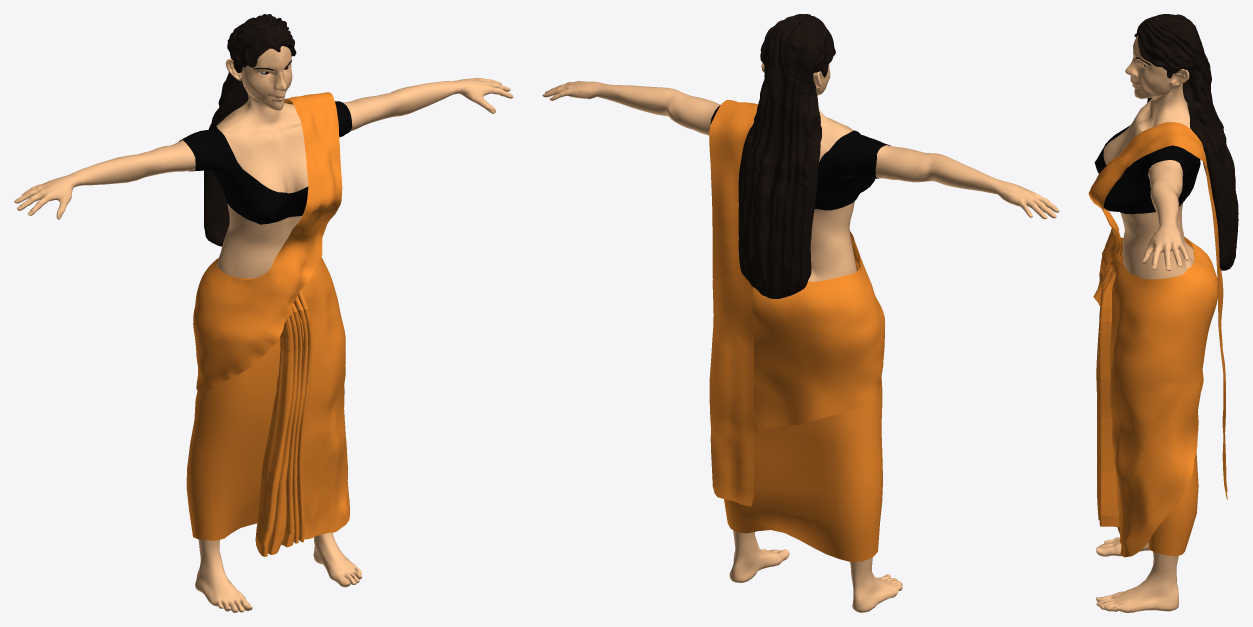
Rendered from indian_woman_in_traditional_saree_outfit.glb.
The picture shows the model from 3 angles, left to right: view 1: azimuth 30°, elevation 25°; view 2: azimuth 150°, elevation 25°; view 3: azimuth 270°, elevation 25°; orthographic projection. The views are drawn at different scales.
Visible parts, largest first — view 1: PALU_10, kangana_4, saree_9, BezierCurve_11, BLOUSE_8, head base.001_6; view 2: PALU_10, head base.001_6, saree_9, kangana_4, BLOUSE_8; view 3: PALU_10, kangana_4, head base.001_6, BezierCurve_11, BLOUSE_8, saree_9.
Boxes of the visible parts, x1,y1,x2,y2 form: PALU_10: (193, 92, 349, 539); kangana_4: (14, 46, 513, 612); saree_9: (186, 263, 280, 540); BezierCurve_11: (255, 290, 312, 556); BLOUSE_8: (179, 101, 352, 224); head base.001_6: (204, 14, 296, 246); PALU_10: (709, 100, 884, 506); head base.001_6: (738, 14, 835, 298); saree_9: (724, 260, 882, 561); kangana_4: (542, 63, 1059, 612); BLOUSE_8: (710, 105, 890, 210); PALU_10: (1088, 122, 1227, 557); kangana_4: (1096, 35, 1194, 612); head base.001_6: (1134, 14, 1238, 270); BezierCurve_11: (1096, 249, 1123, 526); BLOUSE_8: (1094, 97, 1200, 214); saree_9: (1122, 242, 1207, 556).
Size of the model in its own units: 1.53 by 1.65 by 0.3976.
Materials: 7 (1 with a texture image).
